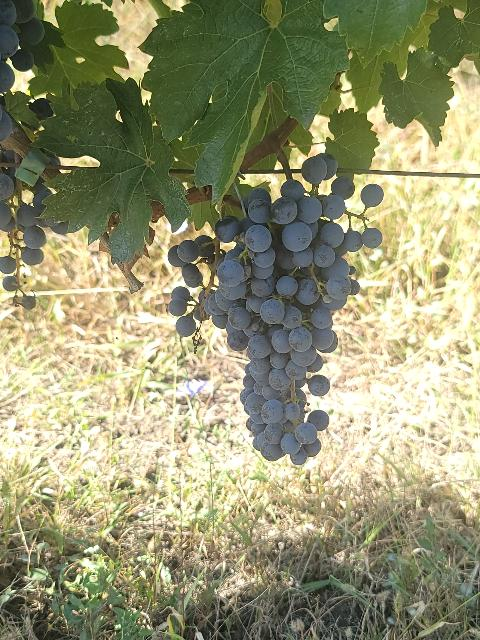grapes: (169, 154, 382, 465)
